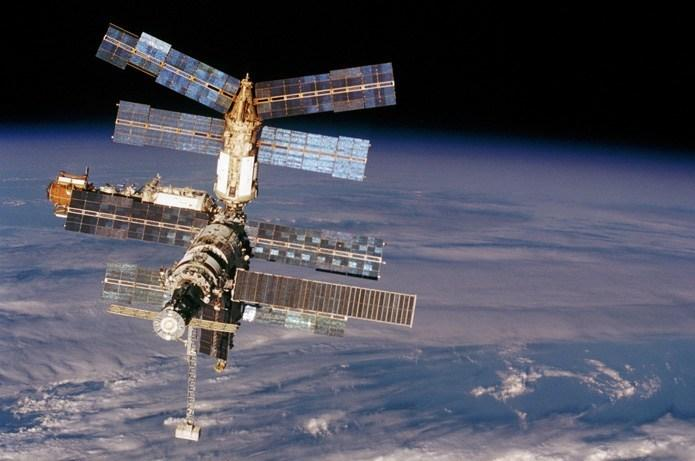antenna: (175, 319, 203, 444), (153, 310, 187, 342)
body: (172, 70, 250, 362)
solar: (93, 20, 244, 111), (230, 268, 416, 330), (238, 215, 385, 284), (61, 183, 210, 250), (251, 60, 396, 115), (258, 119, 371, 185), (110, 98, 226, 157), (103, 259, 174, 304)
